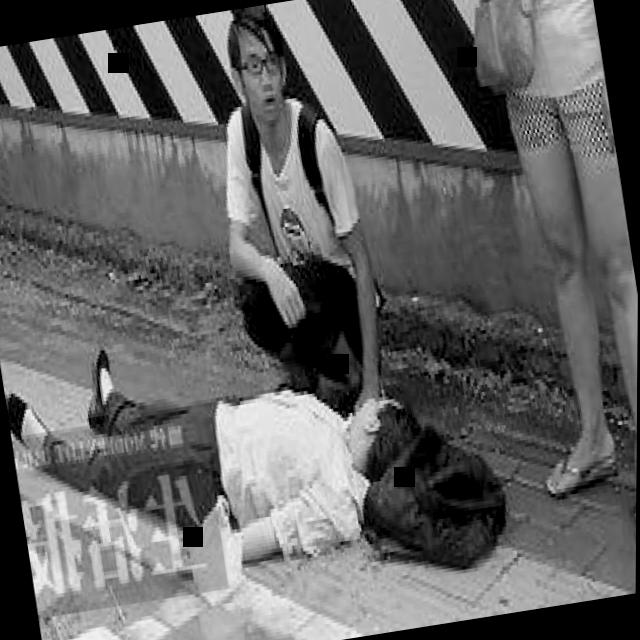Fall-Detected: (0, 262, 496, 608)
